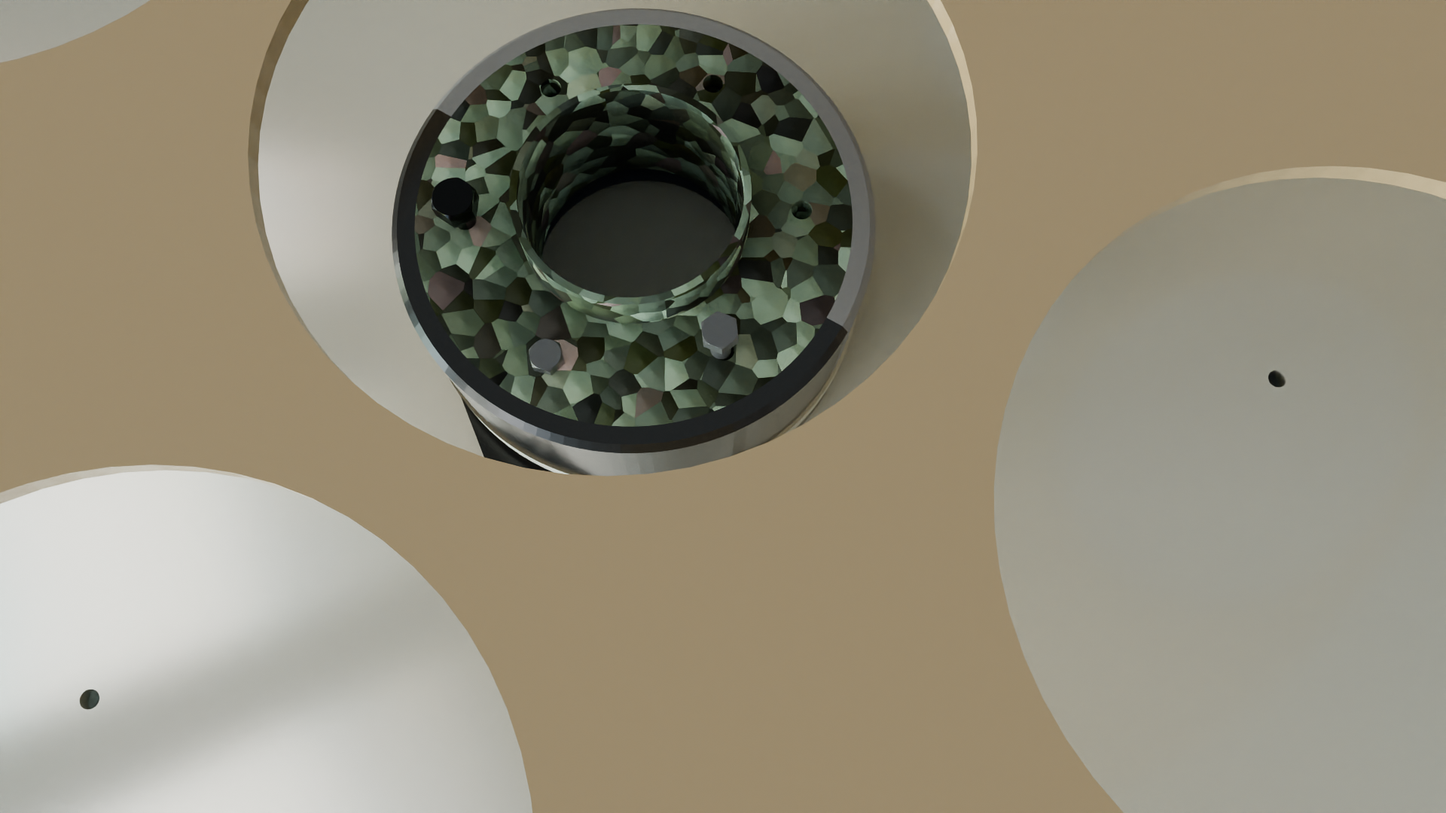bolt: (432, 177, 475, 221), (701, 311, 739, 350), (529, 338, 563, 372)
